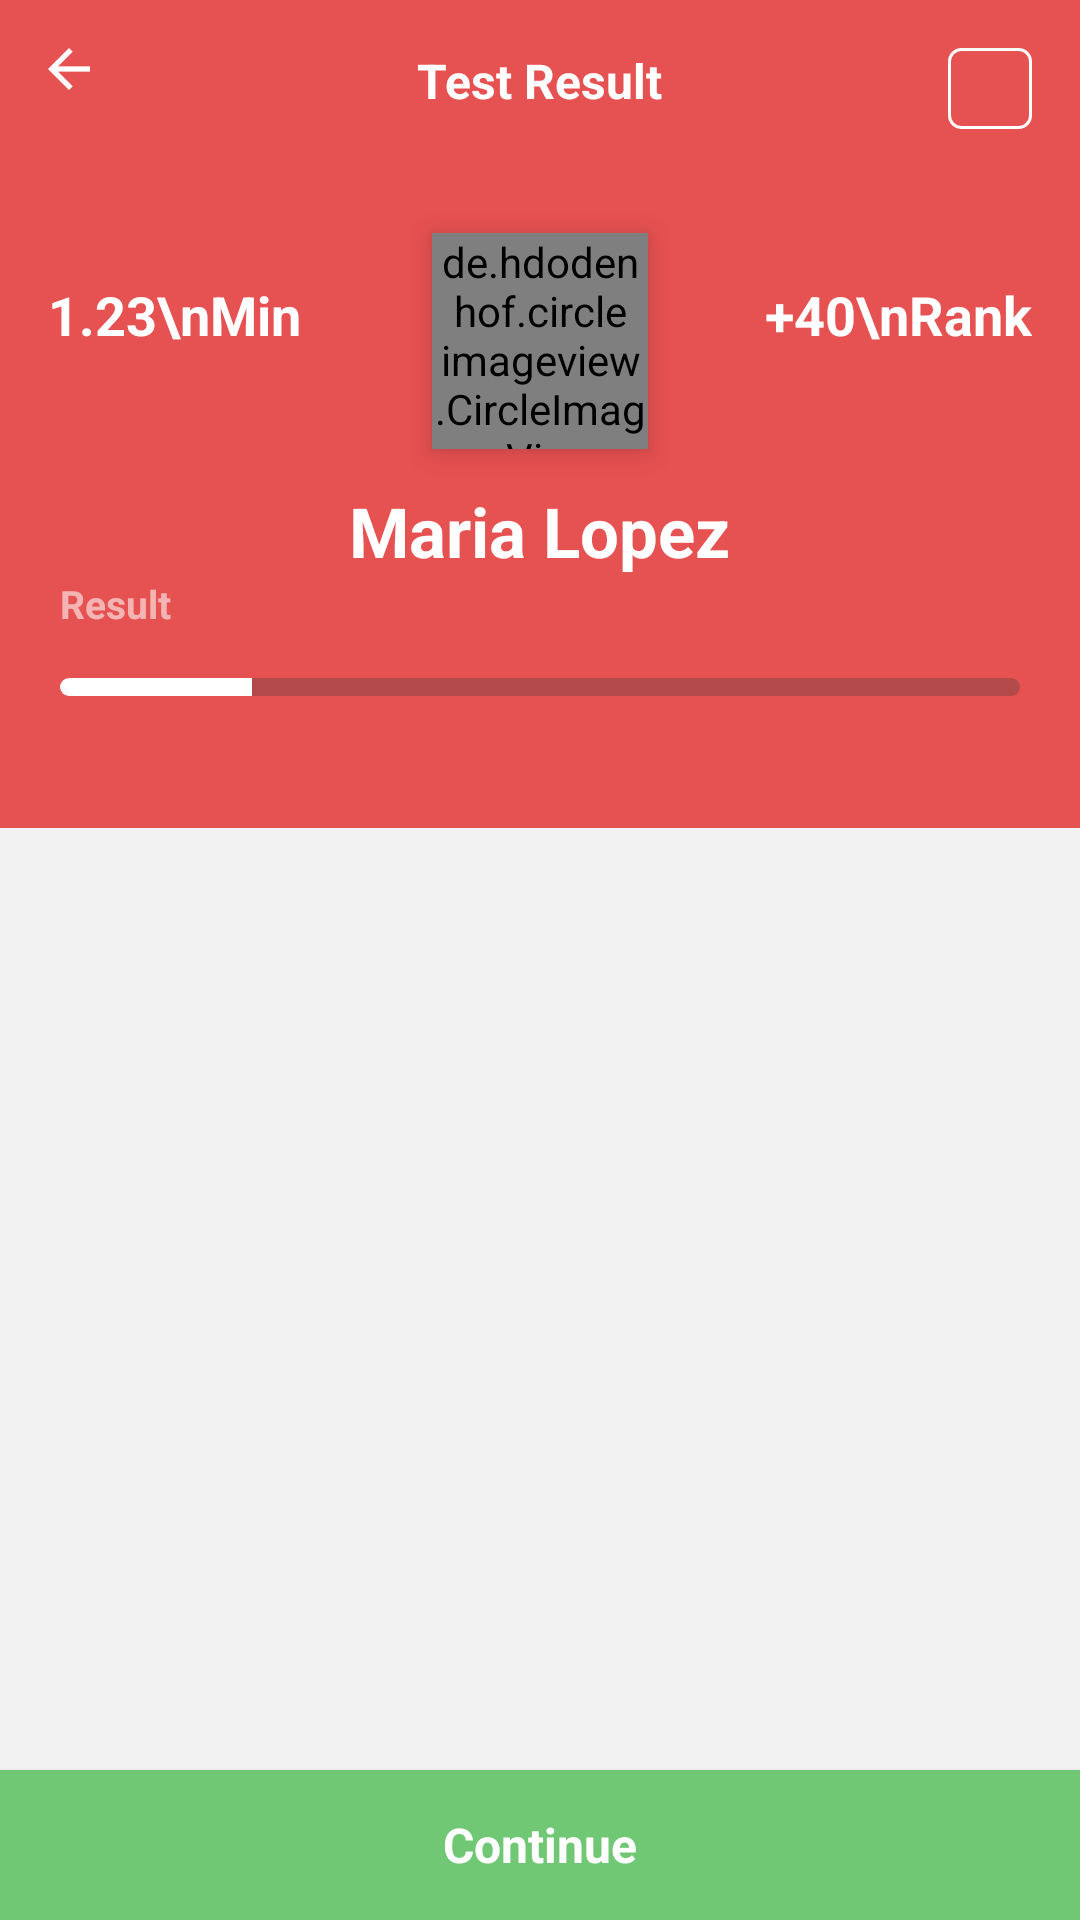

Where icons sit on this 1080x1920 app screen, as region(x1, y1, x2, y2):
back arrow: region(48, 48, 90, 90)
